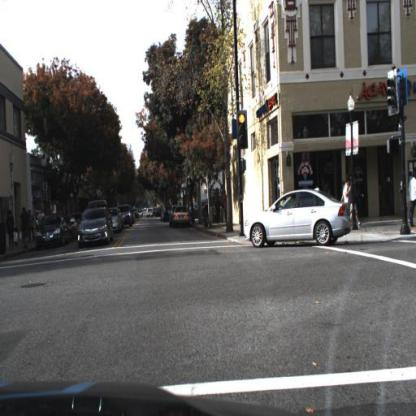car: (242, 187, 356, 253), (78, 208, 113, 247), (38, 215, 70, 249), (172, 207, 192, 229), (112, 208, 125, 235), (124, 204, 136, 231)
pedestrian: (406, 167, 416, 235), (20, 203, 31, 257), (350, 177, 360, 228), (21, 204, 31, 251), (344, 177, 352, 219), (8, 207, 15, 249), (214, 194, 222, 230), (222, 191, 229, 225), (216, 193, 222, 227), (14, 227, 22, 249), (210, 193, 215, 228), (38, 207, 45, 228)
trafficLight: (238, 112, 248, 152)
